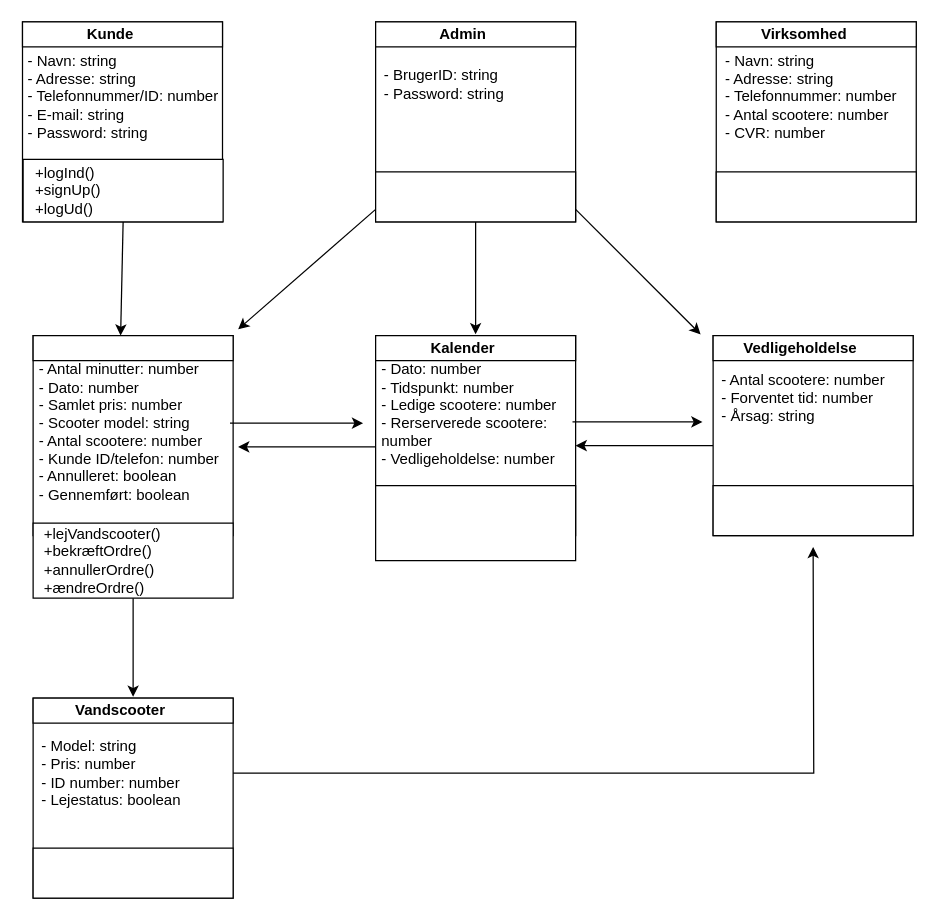
Some shapes in this 946 by 920 pixel diagram are drawn without their labels. Each missing label, with the box of its shape:
+logInd() +logUd(): (374, 171, 576, 222)
+skiftLejestatus() +tilVedligeholdelse(): (374, 484, 576, 561)
+tilKalender(): (712, 484, 913, 536)
Ordre: (32, 334, 233, 361)
